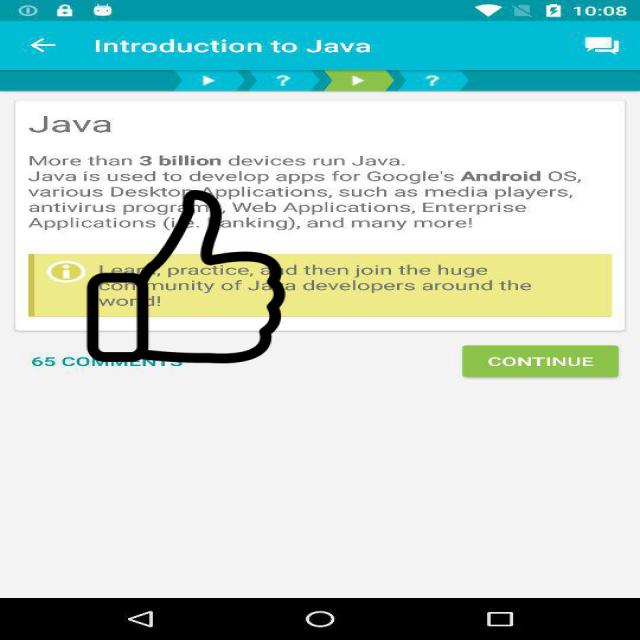privacy zuckering: (84, 190, 288, 363)
